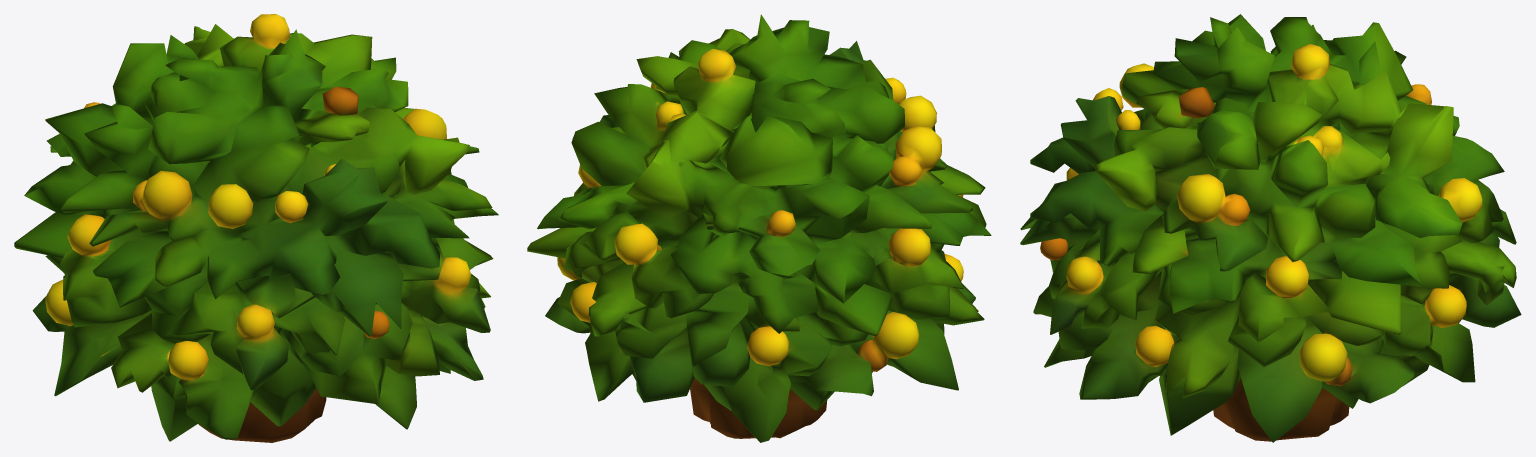
The picture shows the model from 3 angles, left to right: view 1: azimuth 30°, elevation 25°; view 2: azimuth 150°, elevation 25°; view 3: azimuth 270°, elevation 25°; orthographic projection. The views are drawn at different scales.
Visible parts, largest first — view 1: tripo_node_1a17b964-cf7d-4626-b328-af7e86206af0; view 2: tripo_node_1a17b964-cf7d-4626-b328-af7e86206af0; view 3: tripo_node_1a17b964-cf7d-4626-b328-af7e86206af0.
Boxes of the visible parts, <box> form: tripo_node_1a17b964-cf7d-4626-b328-af7e86206af0: <box>14,14,498,442</box>; tripo_node_1a17b964-cf7d-4626-b328-af7e86206af0: <box>527,14,991,442</box>; tripo_node_1a17b964-cf7d-4626-b328-af7e86206af0: <box>1020,14,1521,442</box>.
Size of the model in its own units: 0.9452 by 0.8865 by 0.998.
Materials: 1 (1 with a texture image).
